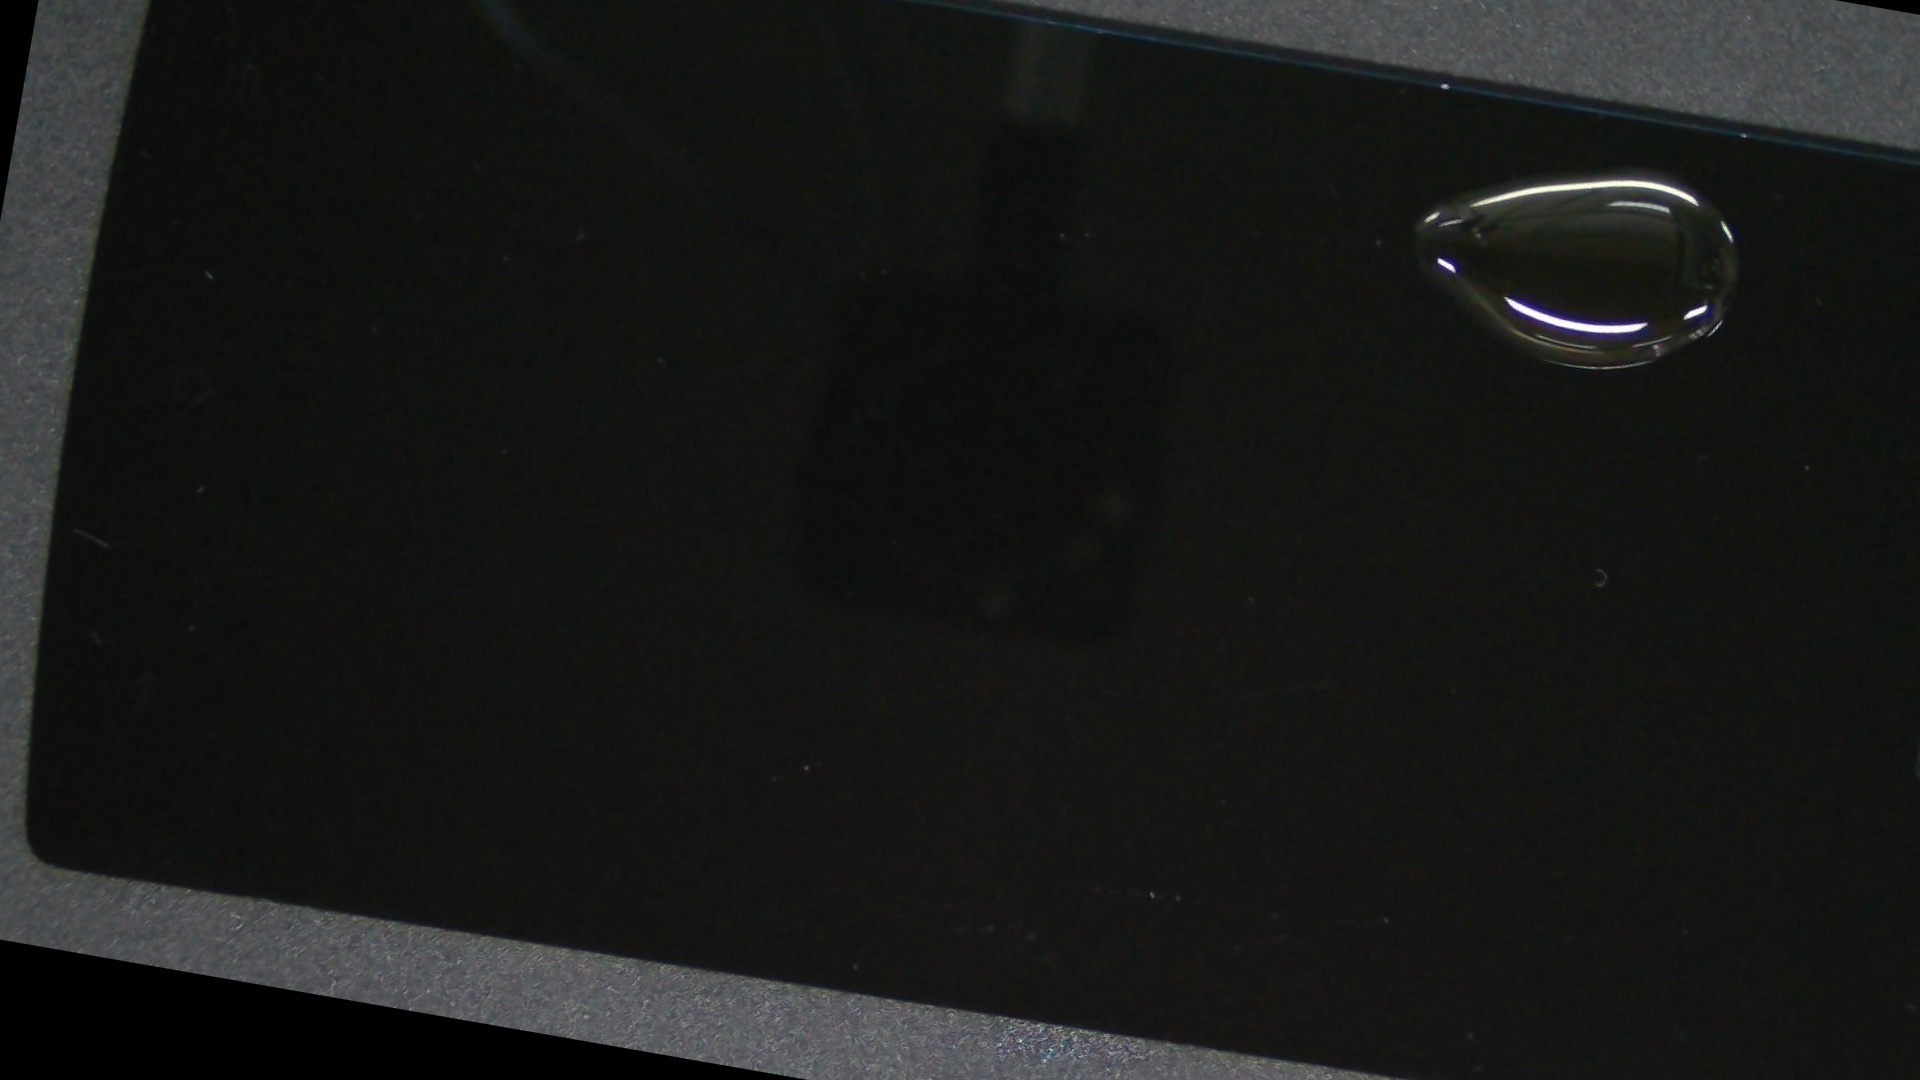oil: (835, 0, 1920, 360)
